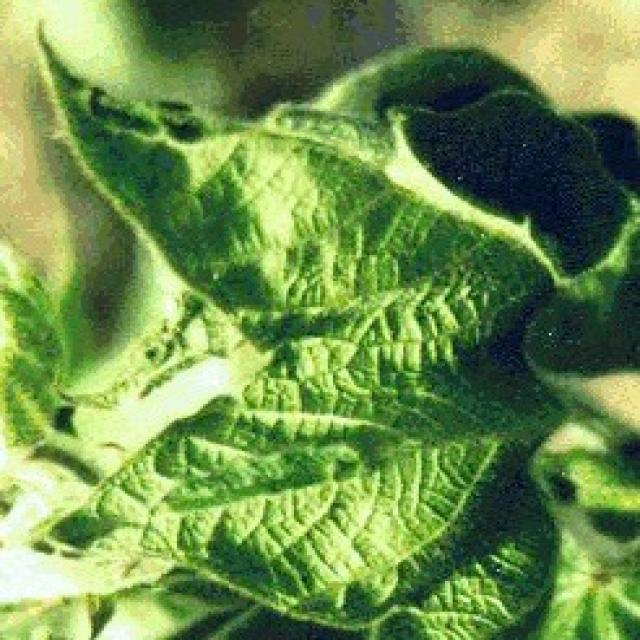Leaf Curl Virus: (132, 127, 488, 581)
